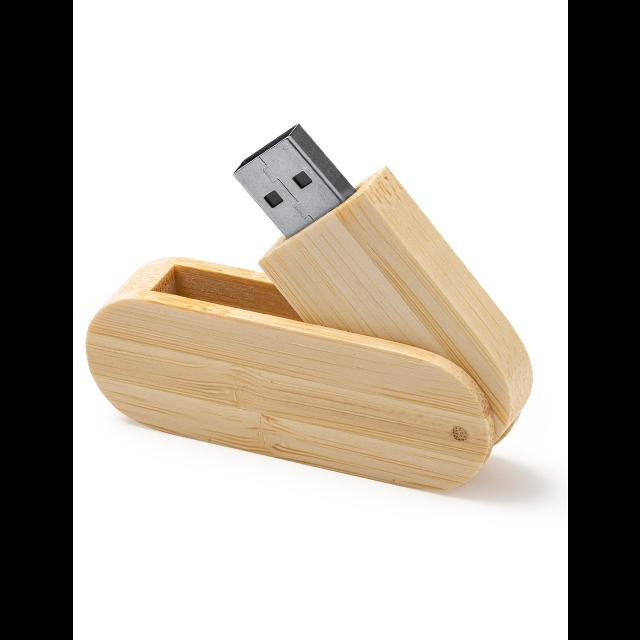USB-Flash-Drive: (231, 124, 523, 396)
